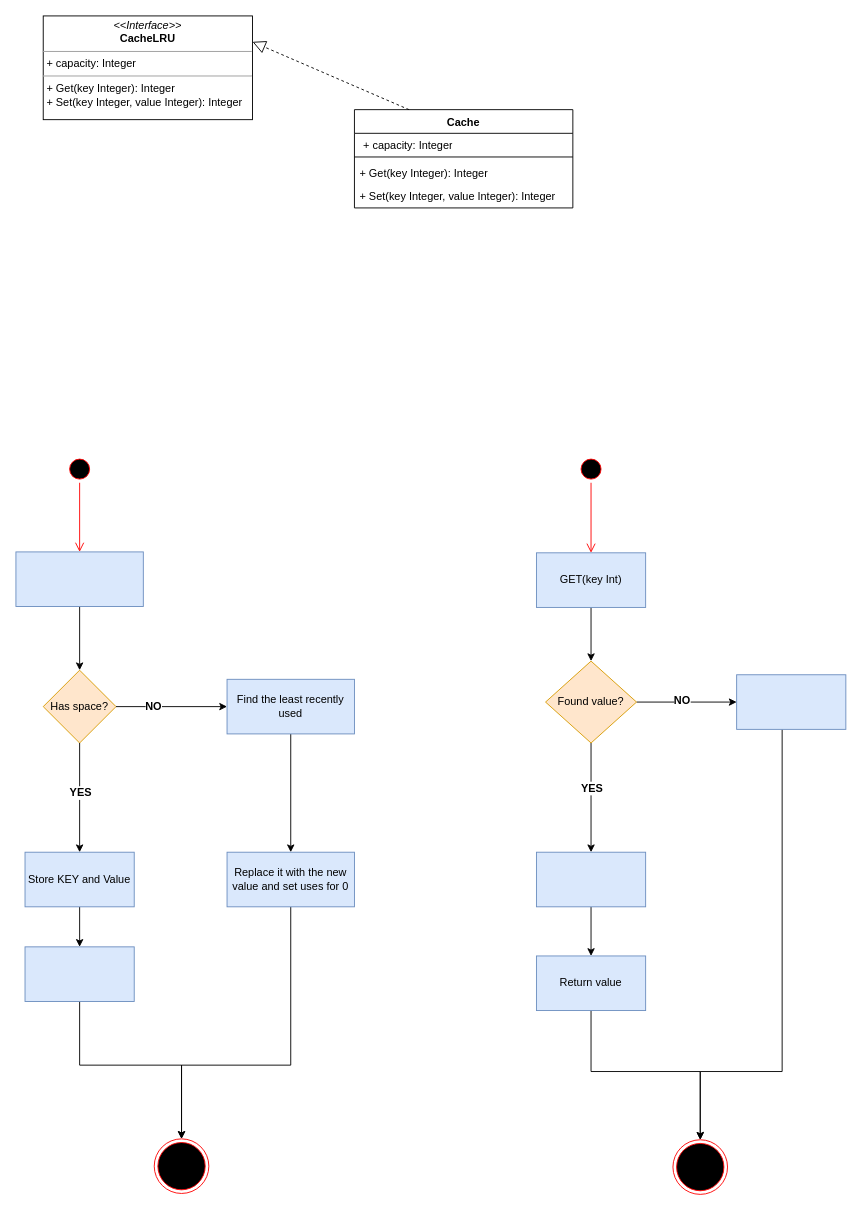
Some shapes in this 862 by 1210 pixel diagram are drawn without their labels. Each missing label, with the box of its shape:
Add a use the value: (536, 851, 646, 907)
Return -1: (736, 674, 846, 729)
SET(key Int, value Int): (15, 551, 143, 607)
Updates capacity used counter: (24, 946, 134, 1001)
